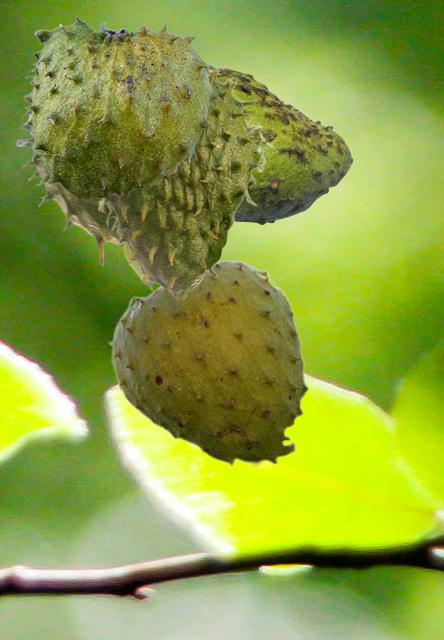guyabano: (107, 259, 309, 469), (97, 68, 273, 299), (23, 14, 220, 201), (16, 21, 123, 265), (217, 67, 352, 224)
